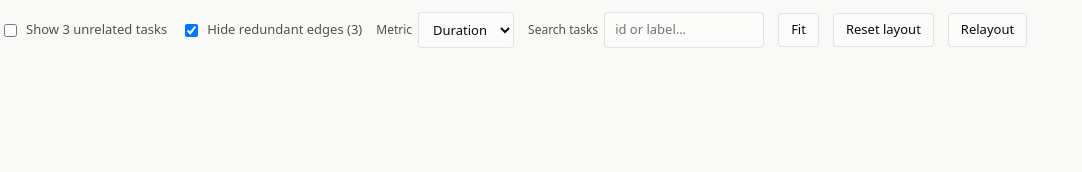
Test: GraphToolbar › AC-3: an empty query shows no count
This screenshot has width=1082, height=172.
Type "u" into the field labelled "Search tasks" at [684, 30], box [604, 12, 764, 48]
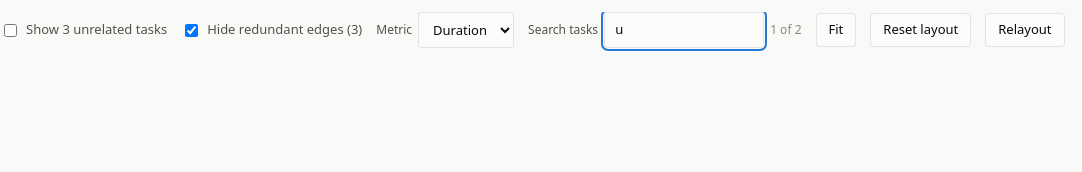
Now the text "1 of 2" is shown, box [770, 21, 802, 39]
Clear the field labelled "Search tasks" at [684, 30], box [604, 12, 764, 48]
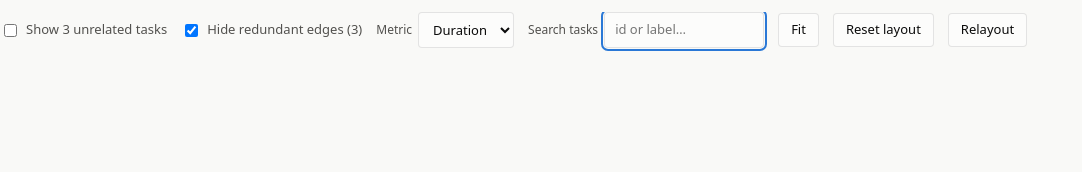
Now the text "1 of 2" is gone
